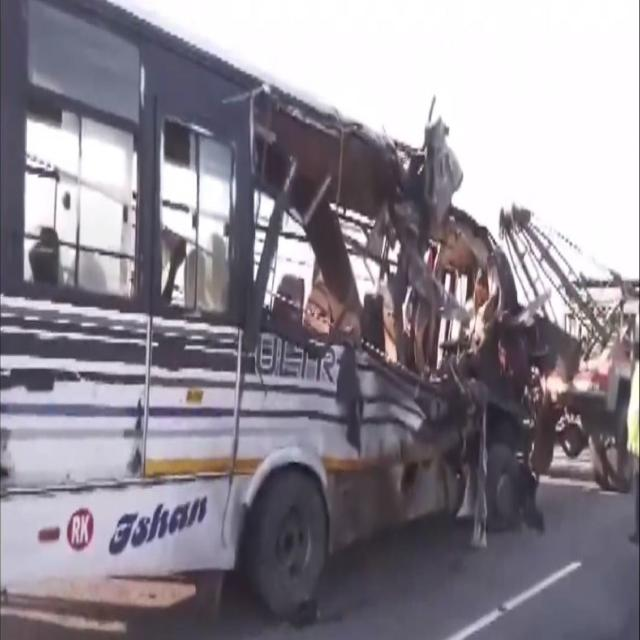accident: (0, 0, 579, 616)
